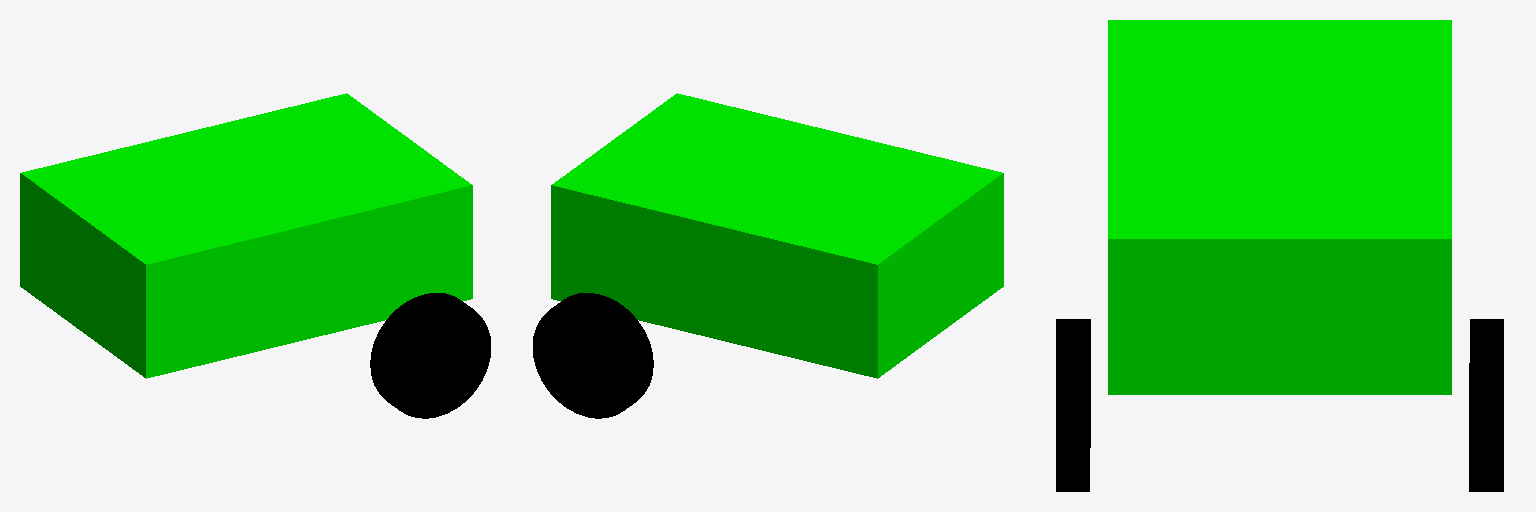
robot.urdf — simple_diff_robot:
<?xml version="1.0"?>
<robot xmlns:xacro="http://www.ros.org/wiki/xacro" name="simple_diff_robot">
    
    <!-- 基础链接 -->
    <link name="base_footprint"/>
    
    <joint name="base_joint" type="fixed">
        <origin xyz="0 0 0" rpy="0 0 0"/>
        <parent link="base_footprint"/>
        <child link="base_link"/>
    </joint>
    
    <!-- 底盘 -->
    <link name="base_link">
        <visual>
            <origin xyz="0 0 0.05" rpy="0 0 0"/>
            <geometry>
                <box size="0.3 0.2 0.1"/>
            </geometry>
            <material name="green">
                <color rgba="0 1 0 1"/>
            </material>
        </visual>
        <collision>
            <origin xyz="0 0 0.05" rpy="0 0 0"/>
            <geometry>
                <box size="0.3 0.2 0.1"/>
            </geometry>
        </collision>
        <inertial>
            <origin xyz="0 0 0.05" rpy="0 0 0"/>
            <mass value="2.0"/>
            <inertia ixx="0.02" ixy="0" ixz="0" iyy="0.02" iyz="0" izz="0.02"/>
        </inertial>
    </link>
    
    <!-- 左前轮 -->
    <link name="left_wheel">
        <visual>
            <origin xyz="0 0 0" rpy="1.5707 0 0"/>
            <geometry>
                <cylinder radius="0.05" length="0.02"/>
            </geometry>
            <material name="black">
                <color rgba="0 0 0 1"/>
            </material>
        </visual>
        <collision>
            <origin xyz="0 0 0" rpy="1.5707 0 0"/>
            <geometry>
                <cylinder radius="0.05" length="0.02"/>
            </geometry>
        </collision>
        <inertial>
            <origin xyz="0 0 0" rpy="0 0 0"/>
            <mass value="0.2"/>
            <inertia ixx="0.0002" ixy="0" ixz="0" iyy="0.0002" iyz="0" izz="0.0002"/>
        </inertial>
    </link>
    
    <joint name="left_wheel_joint" type="continuous">
        <origin xyz="0.1 0.12 -0.03" rpy="0 0 0"/>
        <parent link="base_link"/>
        <child link="left_wheel"/>
        <axis xyz="0 1 0"/>
    </joint>
    
    <!-- 右前轮 -->
    <link name="right_wheel">
        <visual>
            <origin xyz="0 0 0" rpy="1.5707 0 0"/>
            <geometry>
                <cylinder radius="0.05" length="0.02"/>
            </geometry>
            <material name="black">
                <color rgba="0 0 0 1"/>
            </material>
        </visual>
        <collision>
            <origin xyz="0 0 0" rpy="1.5707 0 0"/>
            <geometry>
                <cylinder radius="0.05" length="0.02"/>
            </geometry>
        </collision>
        <inertial>
            <origin xyz="0 0 0" rpy="0 0 0"/>
            <mass value="0.2"/>
            <inertia ixx="0.0002" ixy="0" ixz="0" iyy="0.0002" iyz="0" izz="0.0002"/>
        </inertial>
    </link>
    
    <joint name="right_wheel_joint" type="continuous">
        <origin xyz="0.1 -0.12 -0.03" rpy="0 0 0"/>
        <parent link="base_link"/>
        <child link="right_wheel"/>
        <axis xyz="0 1 0"/>
    </joint>
    
    <!-- Gazebo插件配置 -->
    <gazebo reference="base_link">
        <mu1>0.2</mu1>
        <mu2>0.2</mu2>
        <material>Gazebo/Green</material>
    </gazebo>
    
    <gazebo reference="left_wheel">
        <mu1>1.0</mu1>
        <mu2>0.5</mu2>
        <kp>1000000.0</kp>
        <kd>10.0</kd>
        <minDepth>0.001</minDepth>
        <maxVel>1.0</maxVel>
        <material>Gazebo/Black</material>
    </gazebo>
    
    <gazebo reference="right_wheel">
        <mu1>1.0</mu1>
        <mu2>0.5</mu2>
        <kp>1000000.0</kp>
        <kd>10.0</kd>
        <minDepth>0.001</minDepth>
        <maxVel>1.0</maxVel>
        <material>Gazebo/Black</material>
    </gazebo>
    
    <!-- ROS2 Control配置 -->
    <ros2_control name="SimpleDiffSystem" type="system">
        <hardware>
            <plugin>gazebo_ros2_control/GazeboSystem</plugin>
        </hardware>
        <joint name="left_wheel_joint">
            <command_interface name="velocity">
                <param name="min">-10</param>
                <param name="max">10</param>
            </command_interface>
            <command_interface name="effort">
                <param name="min">-10.0</param>
                <param name="max">10.0</param>
            </command_interface>
            <state_interface name="position"/>
            <state_interface name="velocity"/>
            <state_interface name="effort"/>
        </joint>
        <joint name="right_wheel_joint">
            <command_interface name="velocity">
                <param name="min">-10</param>
                <param name="max">10</param>
            </command_interface>
            <command_interface name="effort">
                <param name="min">-10.0</param>
                <param name="max">10.0</param>
            </command_interface>
            <state_interface name="position"/>
            <state_interface name="velocity"/>
            <state_interface name="effort"/>
        </joint>
    </ros2_control>
    
    <!-- Gazebo ROS2 Control 插件 -->
    <gazebo>
        <plugin filename="libgazebo_ros2_control.so" name="gazebo_ros2_control">
            <parameters>/home/xkai/agribot/agribot_ws/install/agribot_simulation/share/agribot_simulation/config/simple_diff_controller.yaml</parameters>
            <ros>
                <remapping>/simple_diff_drive_controller/cmd_vel_unstamped:=/cmd_vel</remapping>
                <remapping>/simple_diff_drive_controller/odom:=/odom</remapping>
            </ros>
        </plugin>
    </gazebo>
    
</robot>

--- What the picture shows (computed from the rendered views, not written in the file) ---
The picture shows the robot from 3 angles, left to right: view 1: azimuth 30°, elevation 25°; view 2: azimuth 150°, elevation 25°; view 3: azimuth 270°, elevation 25°; orthographic projection.
Robot: simple_diff_robot — 4 links, 3 joints (2 continuous, 1 fixed); root link base_footprint; default pose: every joint at zero.
Visible links, largest first — view 1: base_link, right_wheel; view 2: base_link, left_wheel; view 3: base_link, left_wheel, right_wheel.
Link boxes in pixels (left/top/right/bottom): base_link: left=20, top=93, right=472, bottom=378; right_wheel: left=370, top=293, right=490, bottom=418; base_link: left=551, top=93, right=1003, bottom=378; left_wheel: left=533, top=293, right=653, bottom=418; base_link: left=1108, top=20, right=1451, bottom=394; left_wheel: left=1469, top=319, right=1503, bottom=491; right_wheel: left=1056, top=319, right=1090, bottom=491.
Bounding box of the posed robot: 0.3 × 0.26 × 0.18 m (x, y, z).
Geometry: primitives only (box / cylinder / sphere), no mesh files.
